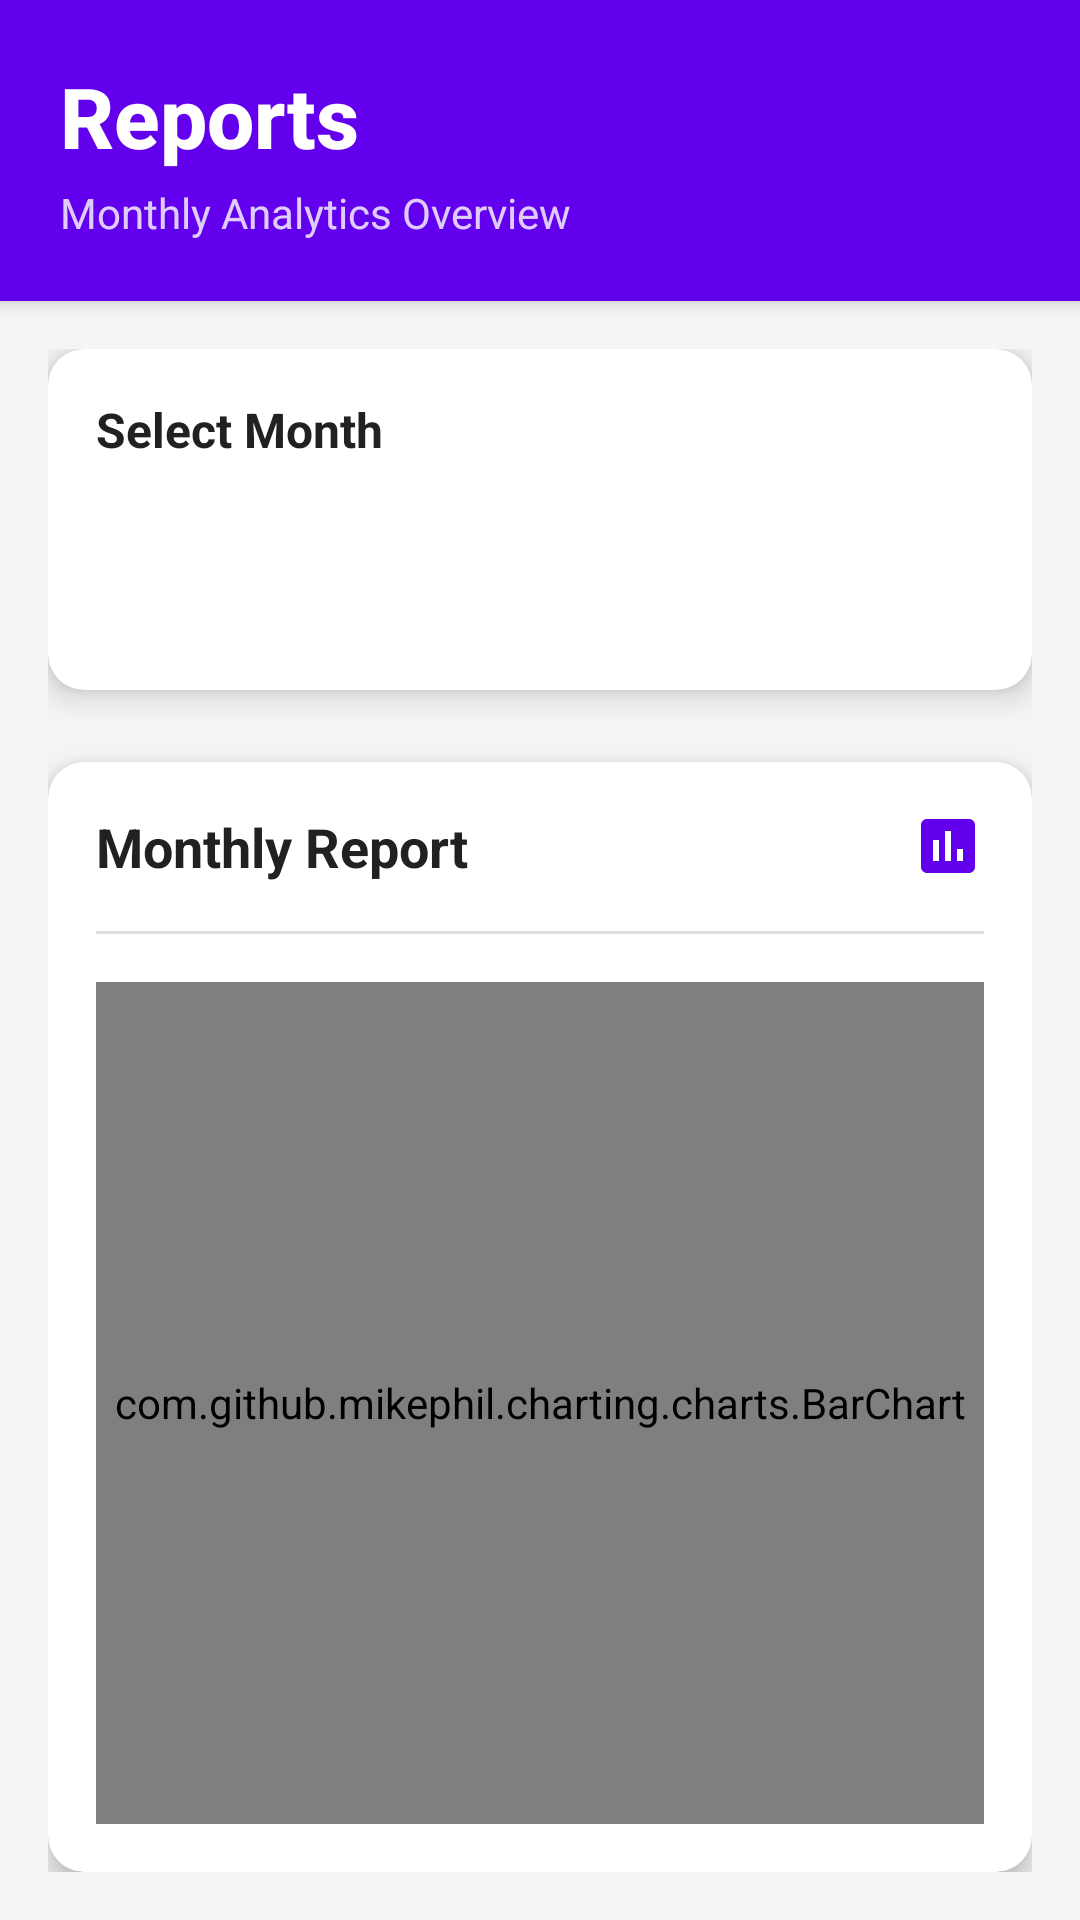

Named icons in this screenshot (1080w x 1920h) and their centers, point (x, y):
analytics: point (948, 846)
